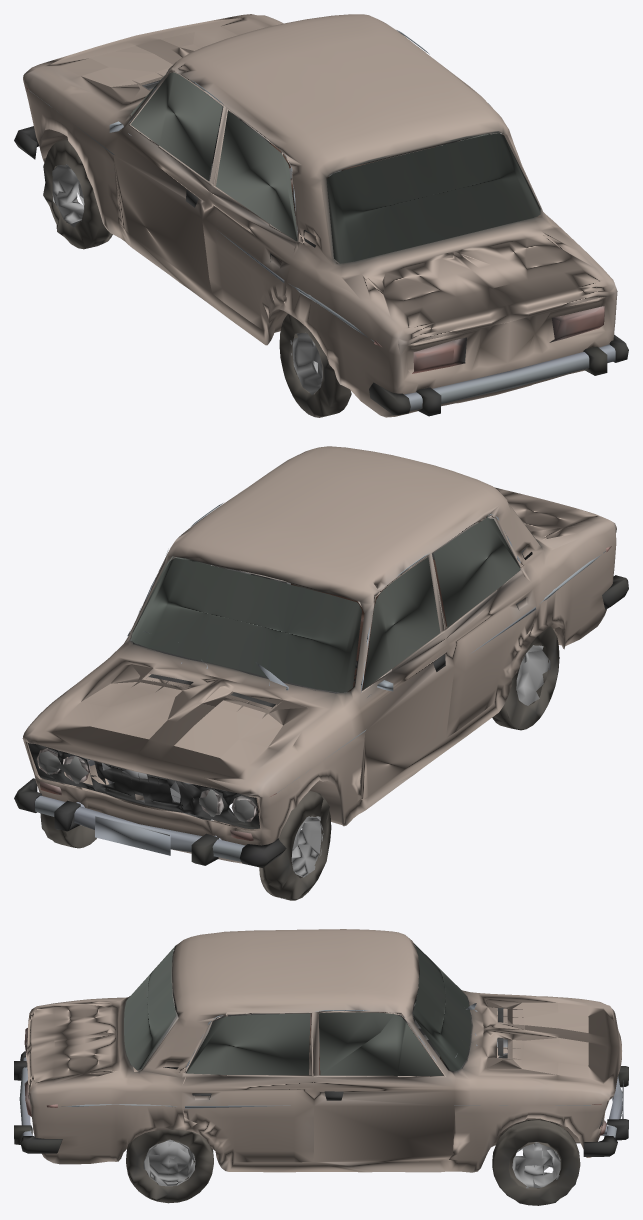
File: vaz.glb
3 views of the same model, one above another, from view 1: azimuth 30°, elevation 25°; view 2: azimuth 150°, elevation 25°; view 3: azimuth 270°, elevation 25° (orthographic). The views are drawn at different scales.
Parts seen in each view (by area): view 1: vaz2106; view 2: vaz2106; view 3: vaz2106.
Boxes of the visible parts, x1,y1,x2,y2 form: vaz2106: (14,14,628,417); vaz2106: (14,446,628,900); vaz2106: (14,929,628,1205).
Bounding box in the file's own units: 1.75 × 1.58 × 4.36.
